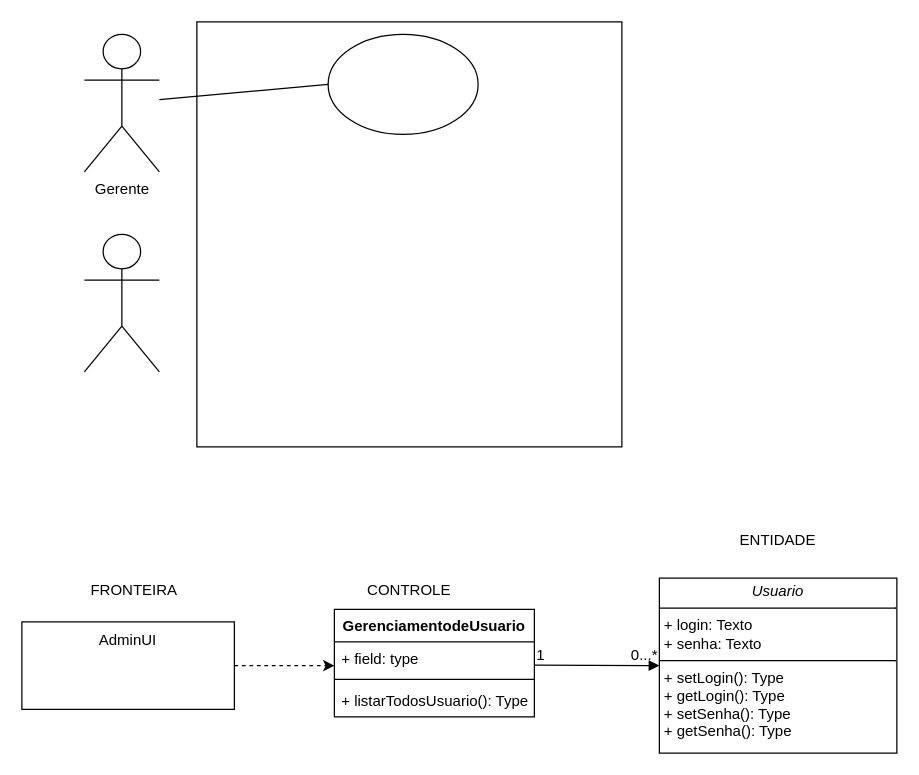
Image size: 919x775. Some labels were removed from this diagram. The shapes that lost their labels are listed below. From the top down, each one's centre as x and y in pixels, then its label:
At (x=402, y=83): "GERENCIAR USUÁRIO".
At (x=121, y=302): "Funcionário".
